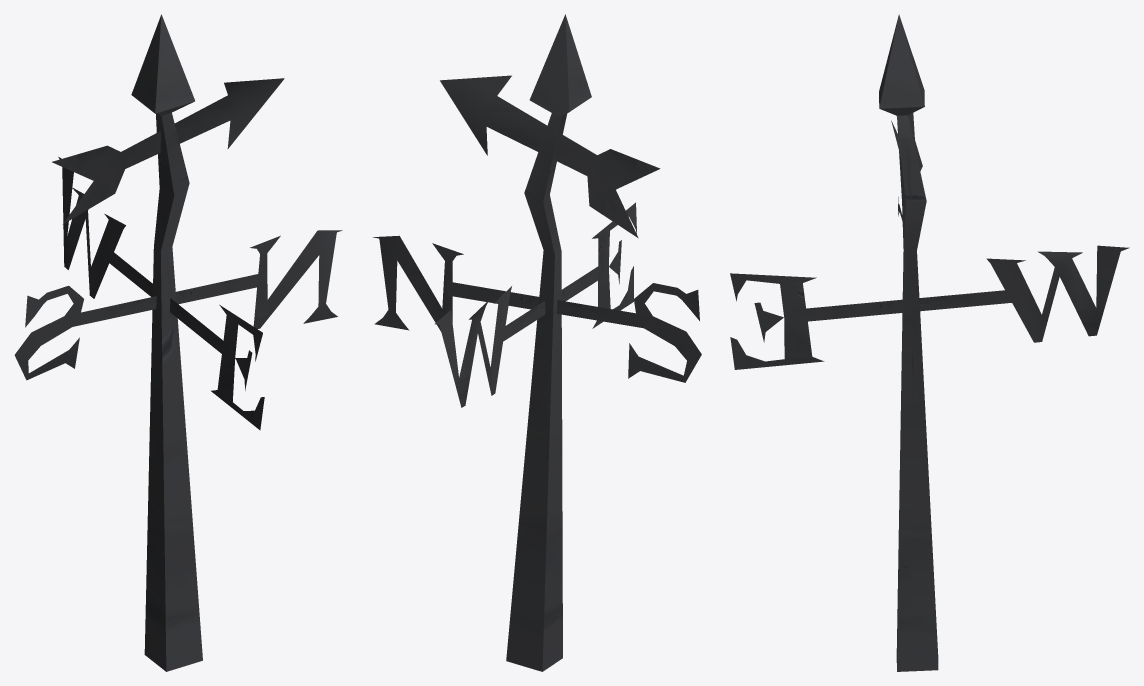
File: SM_PROP_weathervane.fbx
3 renders of one model, left to right at view 1: azimuth 30°, elevation 25°; view 2: azimuth 150°, elevation 25°; view 3: azimuth 270°, elevation 25°, orthographic. The views are drawn at different scales.
Parts seen in each view (by area): view 1: SM_PROP_weathervane; view 2: SM_PROP_weathervane; view 3: SM_PROP_weathervane.
Boxes of the visible parts, x1=… form: SM_PROP_weathervane: x1=14, y1=14, x2=342, y2=671; SM_PROP_weathervane: x1=373, y1=14, x2=701, y2=671; SM_PROP_weathervane: x1=730, y1=14, x2=1129, y2=671.
Size of the model in its own units: 209 by 394 by 223.
